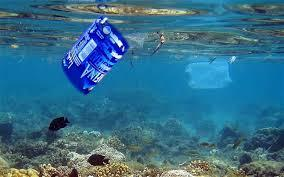Plastic bag: (179, 57, 232, 92)
